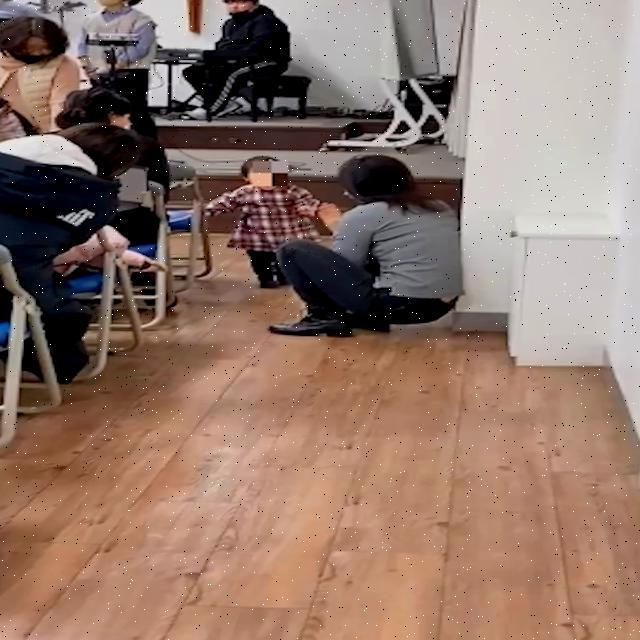child: (202, 153, 345, 287)
